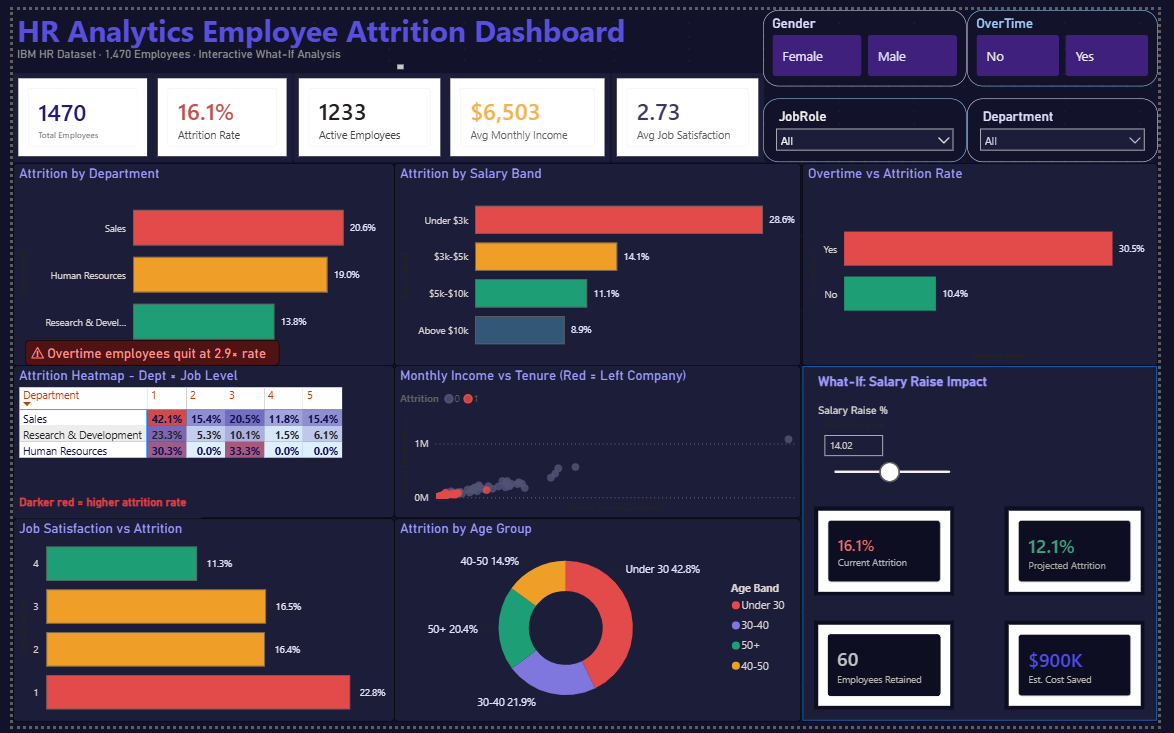

Layout of this report page (visuals, bound fields, positions):
{"tool":"powerbi","page":{"name":"Page 1","canvas":[1440,900],"ordinal":0},"visuals":[{"type":"cardVisual","fields":{"Data":["_Measures.Total Employees"]},"box":[0,80,176,112],"z":0},{"type":"cardVisual","fields":{"Data":["_Measures.Attrition Rate"]},"box":[176,80,176,112],"z":1000},{"type":"cardVisual","fields":{"Data":["_Measures.Active Employees"]},"box":[352,80,192,112],"z":2000},{"type":"cardVisual","fields":{"Data":["_Measures.Avg Monthly Income"]},"box":[544,80,208,112],"z":3000},{"type":"cardVisual","fields":{"Data":["_Measures.Avg Job Satisfaction"]},"box":[752,80,192,112],"z":4000},{"type":"clusteredBarChart","title":"Attrition by Department","fields":{"Category":["WA_Fn-UseC_-HR-Employee-Attrition.Department"],"Y":["_Measures.Attrition Rate"]},"box":[0,192,480,256],"z":5000},{"type":"clusteredBarChart","title":"Attrition by Salary Band","fields":{"Category":["WA_Fn-UseC_-HR-Employee-Attrition.Salary Band"],"Y":["_Measures.Attrition Rate"]},"box":[480,192,512,256],"z":6000},{"type":"clusteredBarChart","title":"Overtime vs Attrition Rate","fields":{"Category":["WA_Fn-UseC_-HR-Employee-Attrition.OverTime"],"Y":["_Measures.Attrition Rate"]},"box":[992,192,448,256],"z":7000},{"type":"textbox","title":"⚠ Overtime employees quit at 2.9× rate","box":[16,416,320,32],"z":8000},{"type":"clusteredBarChart","title":"Job Satisfaction vs Attrition","fields":{"Y":["_Measures.Attrition Rate"],"Category":["WA_Fn-UseC_-HR-Employee-Attrition.JobSatisfaction"]},"box":[0,640,480,256],"z":9000},{"type":"donutChart","title":"Attrition by Age Group","fields":{"Category":["WA_Fn-UseC_-HR-Employee-Attrition.Age Band"],"Y":["_Measures.Attrition Rate"]},"box":[480,640,512,256],"z":10000},{"type":"pivotTable","title":"Attrition Heatmap - Dept × Job Level","fields":{"Rows":["WA_Fn-UseC_-HR-Employee-Attrition.Department"],"Columns":["WA_Fn-UseC_-HR-Employee-Attrition.JobLevel"],"Values":["_Measures.Attrition Rate"]},"box":[0,448,480,192],"z":11000},{"type":"textbox","title":"Darker red = higher attrition rate","box":[0,608,240,32],"z":12000},{"type":"scatterChart","title":"Monthly Income vs Tenure (Red = Left Company)","fields":{"X":["Sum(WA_Fn-UseC_-HR-Employee-Attrition.YearsAtCompany)"],"Y":["Sum(WA_Fn-UseC_-HR-Employee-Attrition.MonthlyIncome)"],"Series":["WA_Fn-UseC_-HR-Employee-Attrition.Attrition"],"Category":["WA_Fn-UseC_-HR-Employee-Attrition.TotalWorkingYears"]},"box":[480,448,512,192],"z":13000},{"type":"shape","box":[992,448,448,448],"z":14000},{"type":"textbox","title":"What-If: Salary Raise Impact","box":[1008,456,240,24],"z":15000},{"type":"cardVisual","fields":{"Data":["_Measures.Attrition Rate"]},"box":[1008,624,176,112],"z":16000},{"type":"cardVisual","fields":{"Data":["_Measures.Projected Attrition Rate"]},"box":[1248,624,176,112],"z":17000},{"type":"cardVisual","fields":{"Data":["_Measures.Employees Retained"]},"box":[1008,768,176,112],"z":18000},{"type":"cardVisual","fields":{"Data":["_Measures.Cost Saved"]},"box":[1248,768,176,112],"z":19000},{"type":"slicer","title":"Salary Raise %","fields":{"Values":["Salary Increase.Salary Increase"]},"box":[1008,496,192,128],"z":20000},{"type":"textbox","title":"HR Analytics Employee Attrition Dashboard","box":[0,0,800,48],"z":21000},{"type":"textbox","title":"IBM HR Dataset · 1,470 Employees · Interactive What-If Analysis","box":[0,48,496,32],"z":22000},{"type":"slicer","fields":{"Values":["WA_Fn-UseC_-HR-Employee-Attrition.Department"]},"box":[1200,112,240,80],"z":23000},{"type":"advancedSlicerVisual","fields":{"Values":["WA_Fn-UseC_-HR-Employee-Attrition.Gender"]},"box":[944,0,256,96],"z":24000},{"type":"advancedSlicerVisual","fields":{"Values":["WA_Fn-UseC_-HR-Employee-Attrition.OverTime"]},"box":[1200,0,240,96],"z":25000},{"type":"slicer","fields":{"Values":["WA_Fn-UseC_-HR-Employee-Attrition.JobRole"]},"box":[944,112,256,80],"z":26000}]}

Visuals, with their boxes in screenshot pixels (x1, y1, x2, y2), scaled from the page's 1440x900 canvas onto the 1174x733 screenshot:
cardVisual - _Measures.Total Employees: bbox(0, 65, 143, 156)
cardVisual - _Measures.Attrition Rate: bbox(143, 65, 287, 156)
cardVisual - _Measures.Active Employees: bbox(287, 65, 444, 156)
cardVisual - _Measures.Avg Monthly Income: bbox(444, 65, 613, 156)
cardVisual - _Measures.Avg Job Satisfaction: bbox(613, 65, 770, 156)
"Attrition by Department" clusteredBarChart: bbox(0, 156, 391, 365)
"Attrition by Salary Band" clusteredBarChart: bbox(391, 156, 809, 365)
"Overtime vs Attrition Rate" clusteredBarChart: bbox(809, 156, 1173, 365)
"⚠ Overtime employees quit at 2.9× rate" textbox: bbox(13, 339, 274, 365)
"Job Satisfaction vs Attrition" clusteredBarChart: bbox(0, 521, 391, 730)
"Attrition by Age Group" donutChart: bbox(391, 521, 809, 730)
"Attrition Heatmap - Dept × Job Level" pivotTable: bbox(0, 365, 391, 521)
"Darker red = higher attrition rate" textbox: bbox(0, 495, 196, 521)
"Monthly Income vs Tenure (Red = Left Company)" scatterChart: bbox(391, 365, 809, 521)
shape: bbox(809, 365, 1173, 730)
"What-If: Salary Raise Impact" textbox: bbox(822, 371, 1017, 391)
cardVisual - _Measures.Attrition Rate: bbox(822, 508, 965, 599)
cardVisual - _Measures.Projected Attrition Rate: bbox(1017, 508, 1161, 599)
cardVisual - _Measures.Employees Retained: bbox(822, 625, 965, 717)
cardVisual - _Measures.Cost Saved: bbox(1017, 625, 1161, 717)
"Salary Raise %" slicer: bbox(822, 404, 978, 508)
"HR Analytics Employee Attrition Dashboard" textbox: bbox(0, 0, 652, 39)
"IBM HR Dataset · 1,470 Employees · Interactive What-If Analysis" textbox: bbox(0, 39, 404, 65)
slicer - WA_Fn-UseC_-HR-Employee-Attrition.Department: bbox(978, 91, 1173, 156)
advancedSlicerVisual - WA_Fn-UseC_-HR-Employee-Attrition.Gender: bbox(770, 0, 978, 78)
advancedSlicerVisual - WA_Fn-UseC_-HR-Employee-Attrition.OverTime: bbox(978, 0, 1173, 78)
slicer - WA_Fn-UseC_-HR-Employee-Attrition.JobRole: bbox(770, 91, 978, 156)
